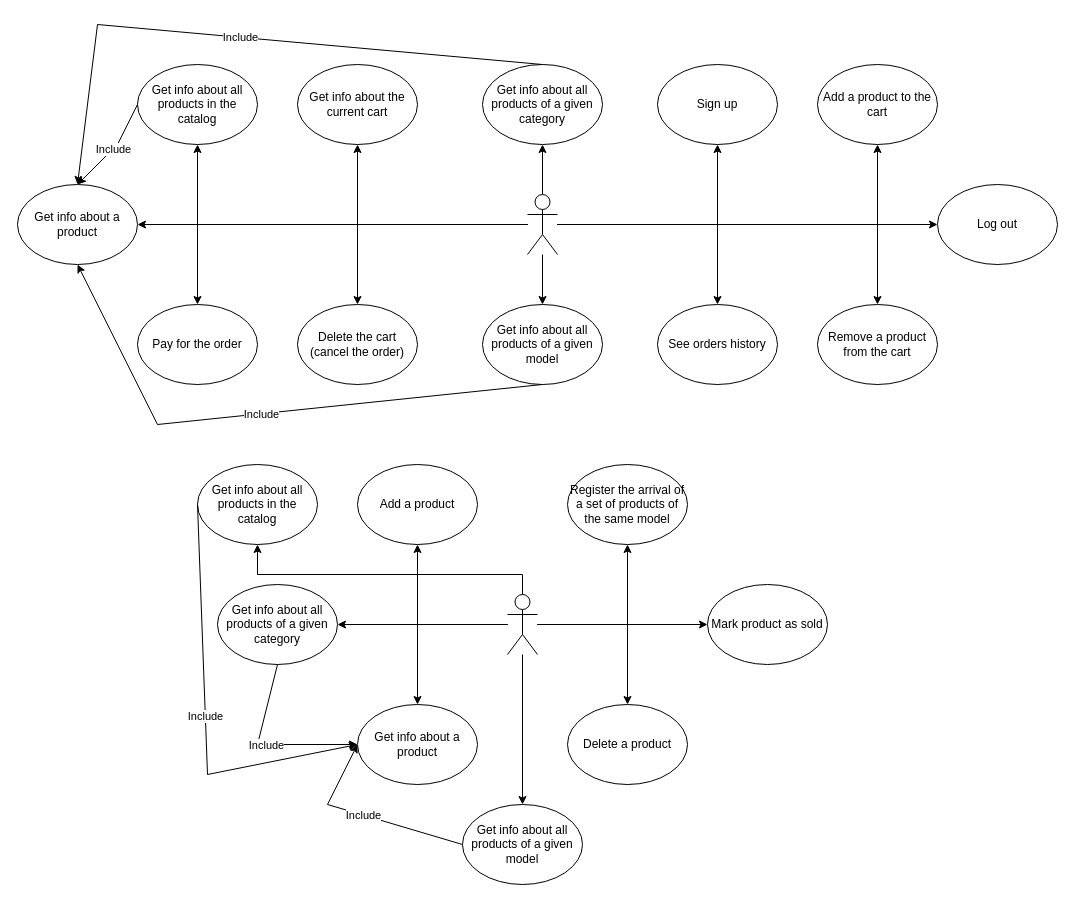
Image size: 1075x902. Some labels were removed from this diagram. The box of each missing label's shape, as (x1, y1, x2, y2) in pixels:
Customer: (526, 194, 558, 254)
Manager: (506, 594, 538, 654)
